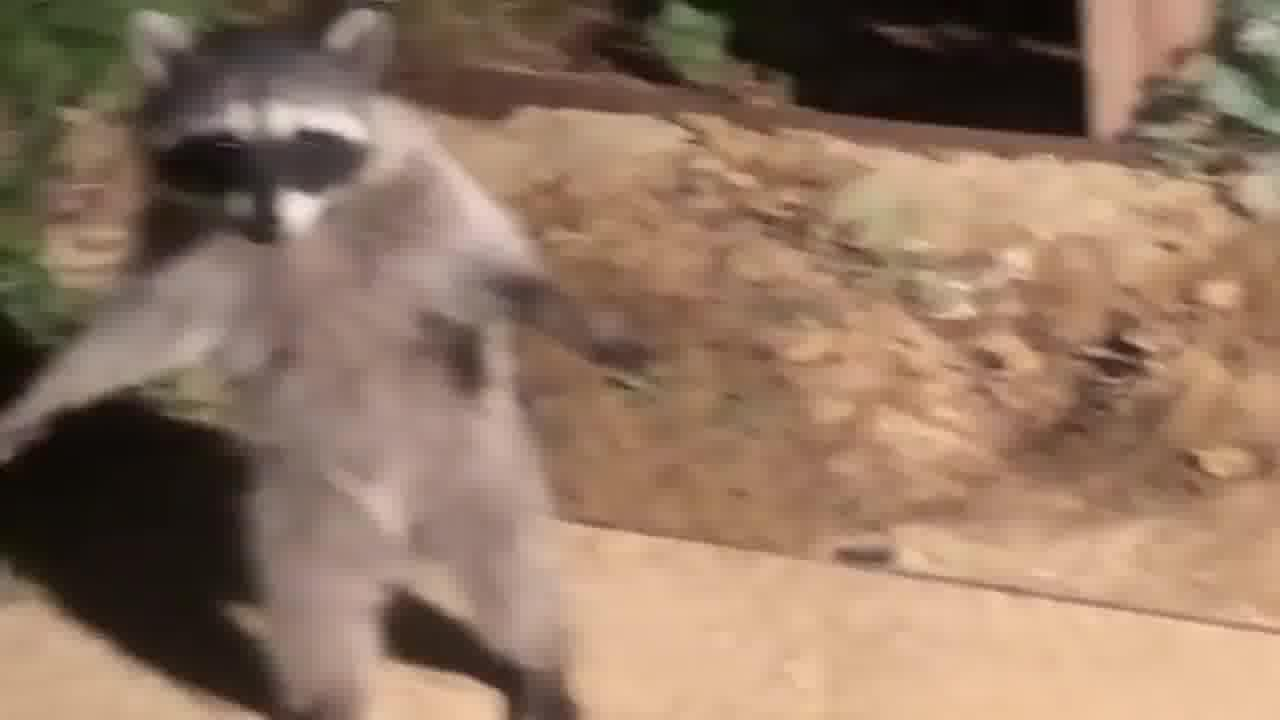raccoon: (0, 0, 676, 720)
